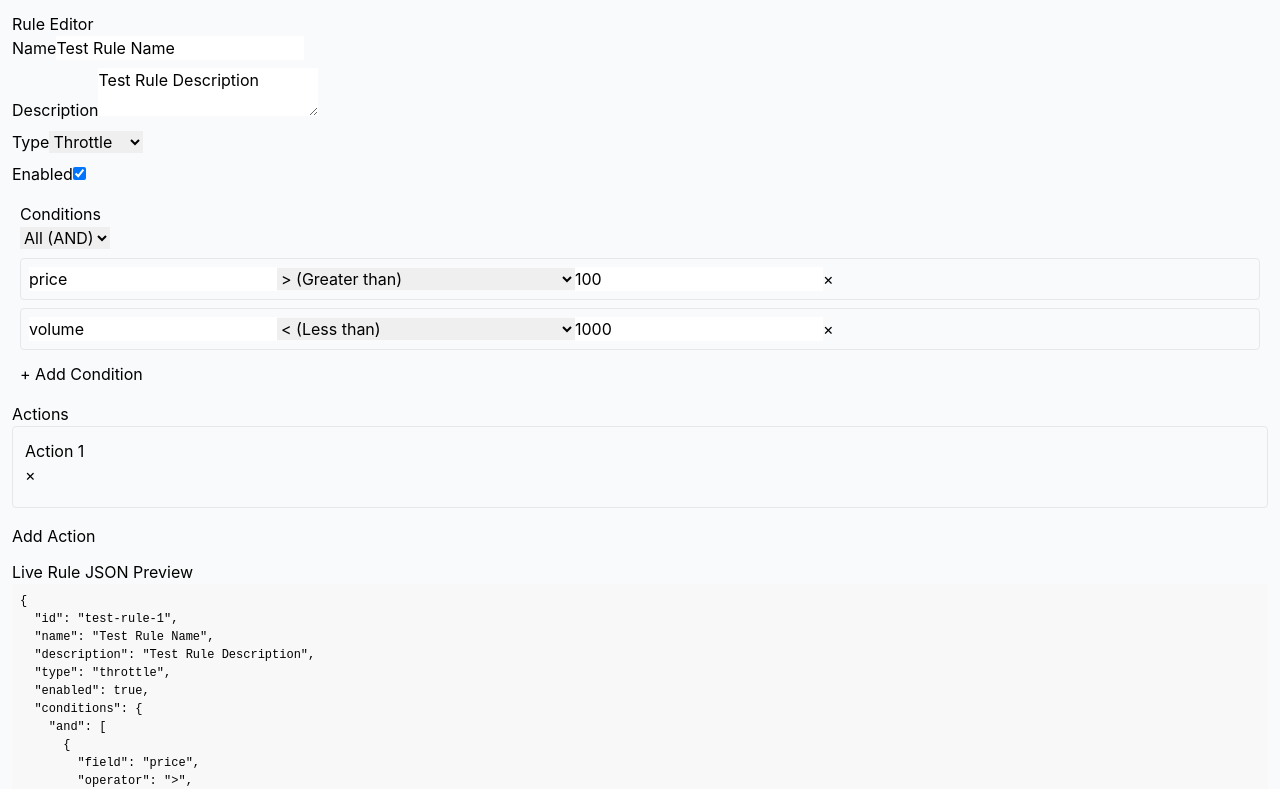
Test: RuleEditor Component › adds a new simple condition
The width and height of the screenshot is (1280, 789).
Click the button "+ Add Condition": (81, 374) [20,362,143,386]
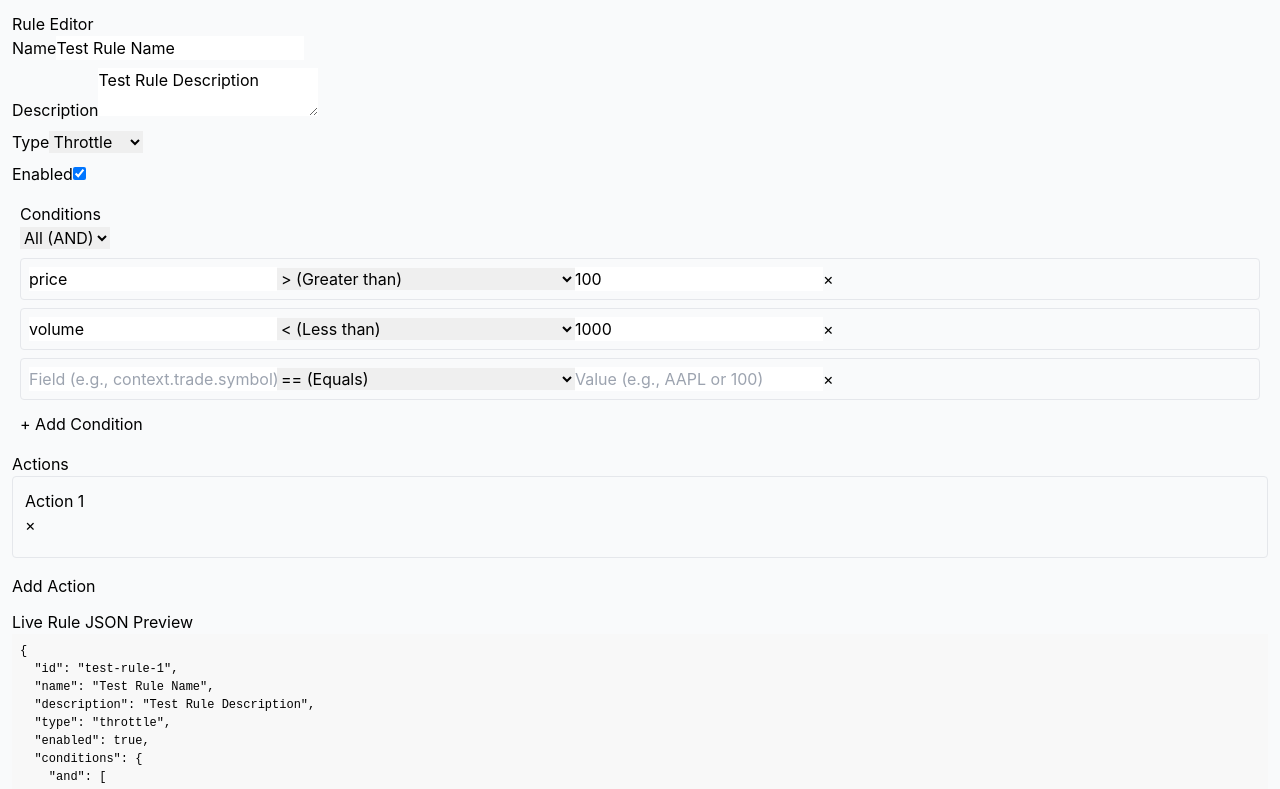
Check: the number of fields with placeholder "Field (e.g., context.trade.symbol)" is 3, box [29,267,277,291]; [29,317,277,341]; [29,367,277,391]
